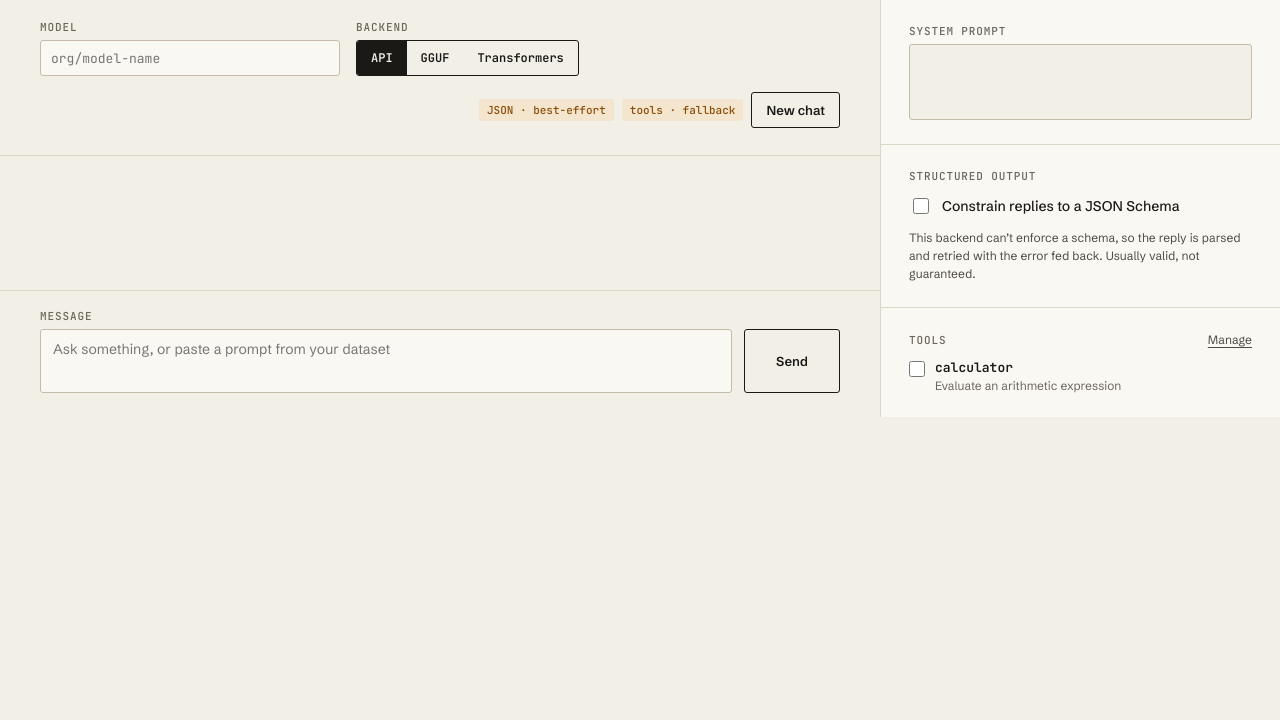
PlaygroundPage › re-picks a valid gguf model after switching gguf -> api -> gguf, instead of resending the stale api id
expect the text "calculator" is shown: met, box [935, 359, 1013, 376]
Click the button "GGUF": (435, 58) [407, 41, 463, 75]
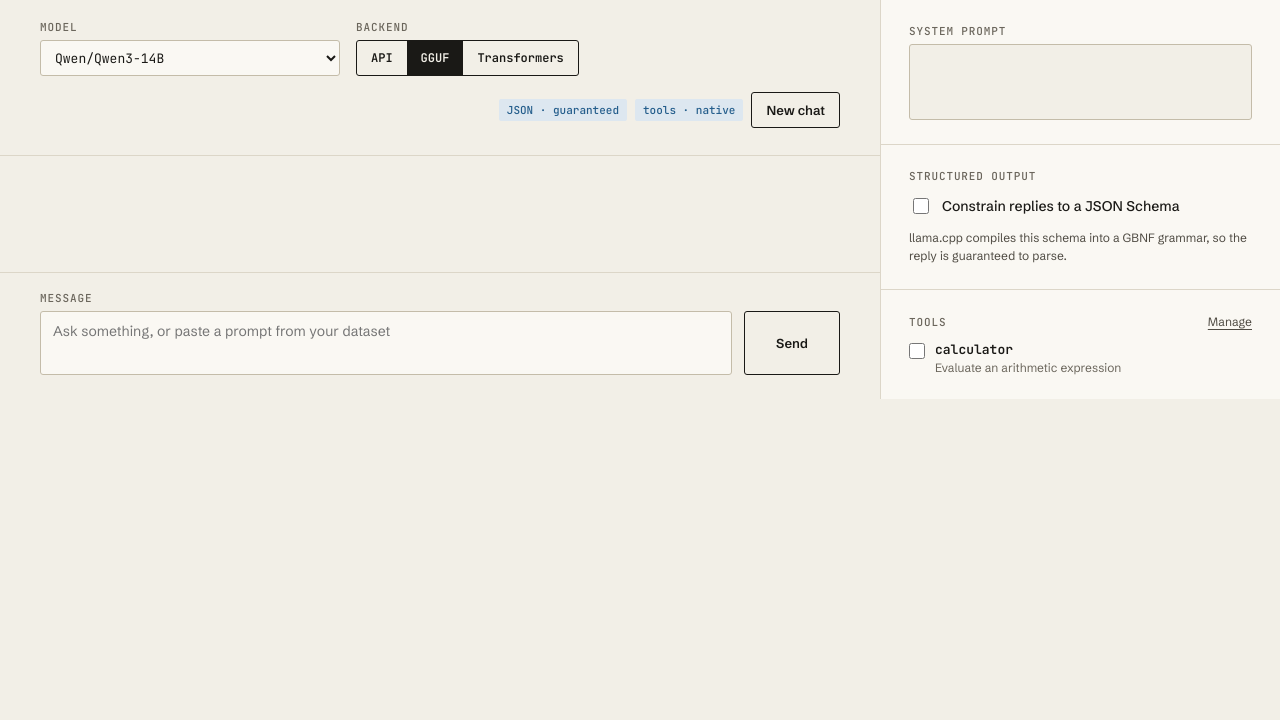
expect the dropdown showing "Qwen/Qwen3-14B" shows "Qwen/Qwen3-14B": met, box [40, 40, 340, 76]
Click the button "API": (382, 58) [357, 41, 407, 75]
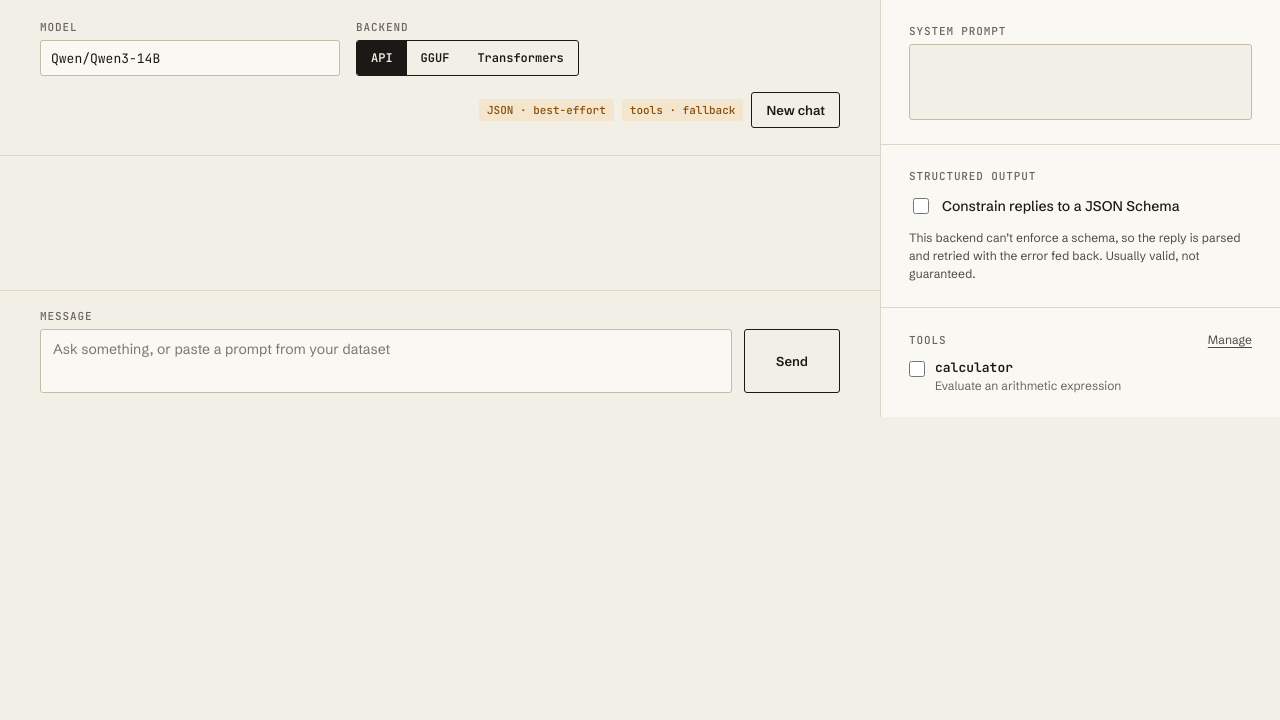
Replace the text in the field labelled "Model" with "org/some-api-model": (190, 58) [40, 40, 340, 76]
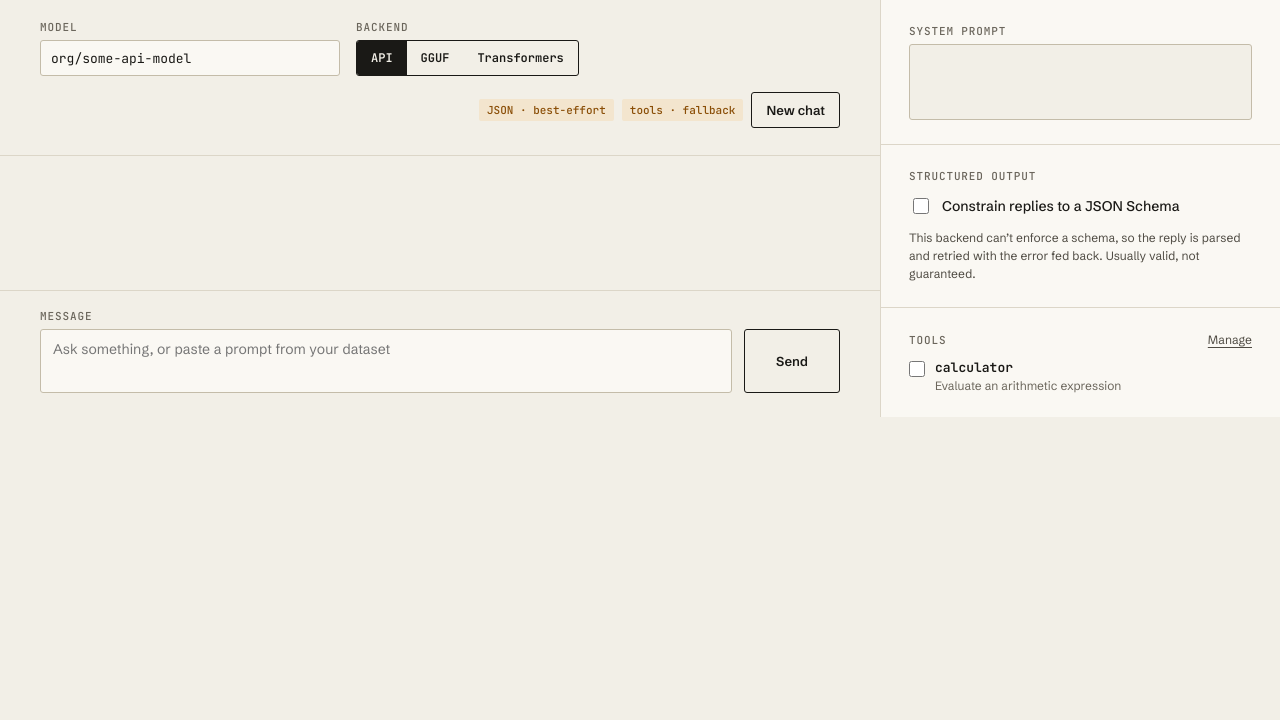
Click the button "GGUF": (435, 58) [407, 41, 463, 75]
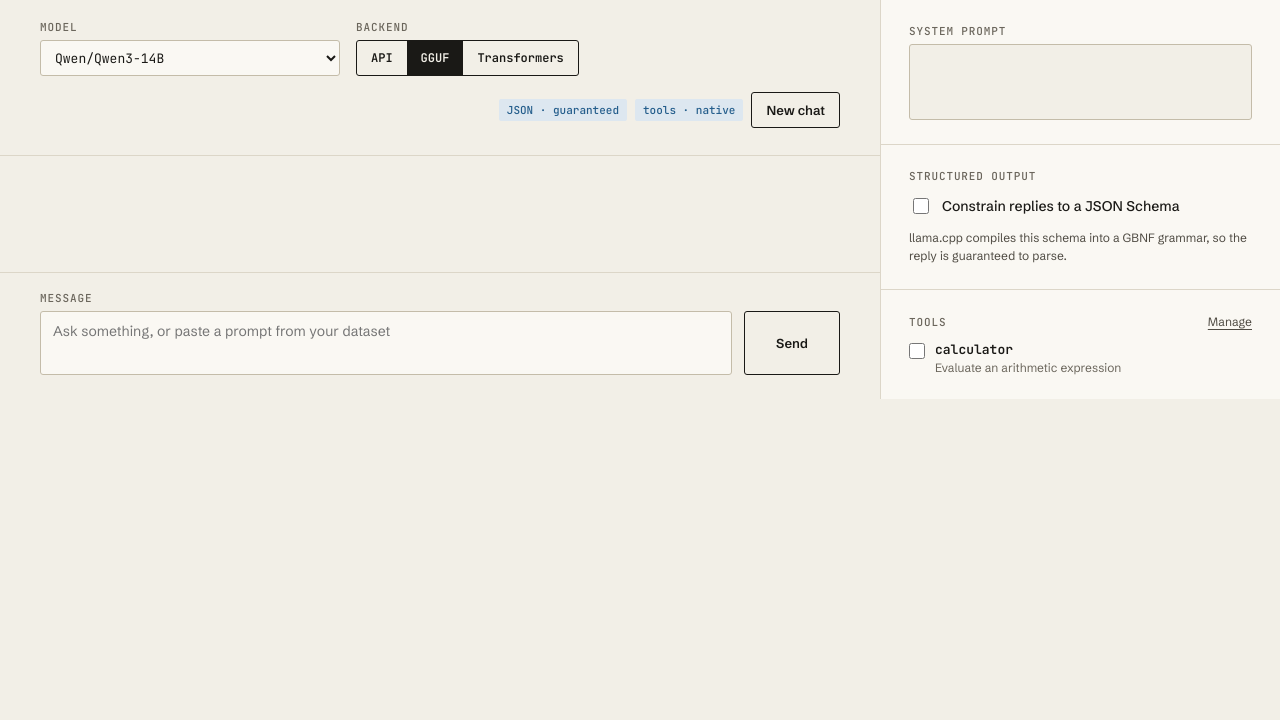
expect the dropdown labelled "Model" shows "Qwen/Qwen3-14B": met, box [40, 40, 340, 76]
In the text box labelled "Message": (386, 343) [40, 311, 732, 375], type "hi"
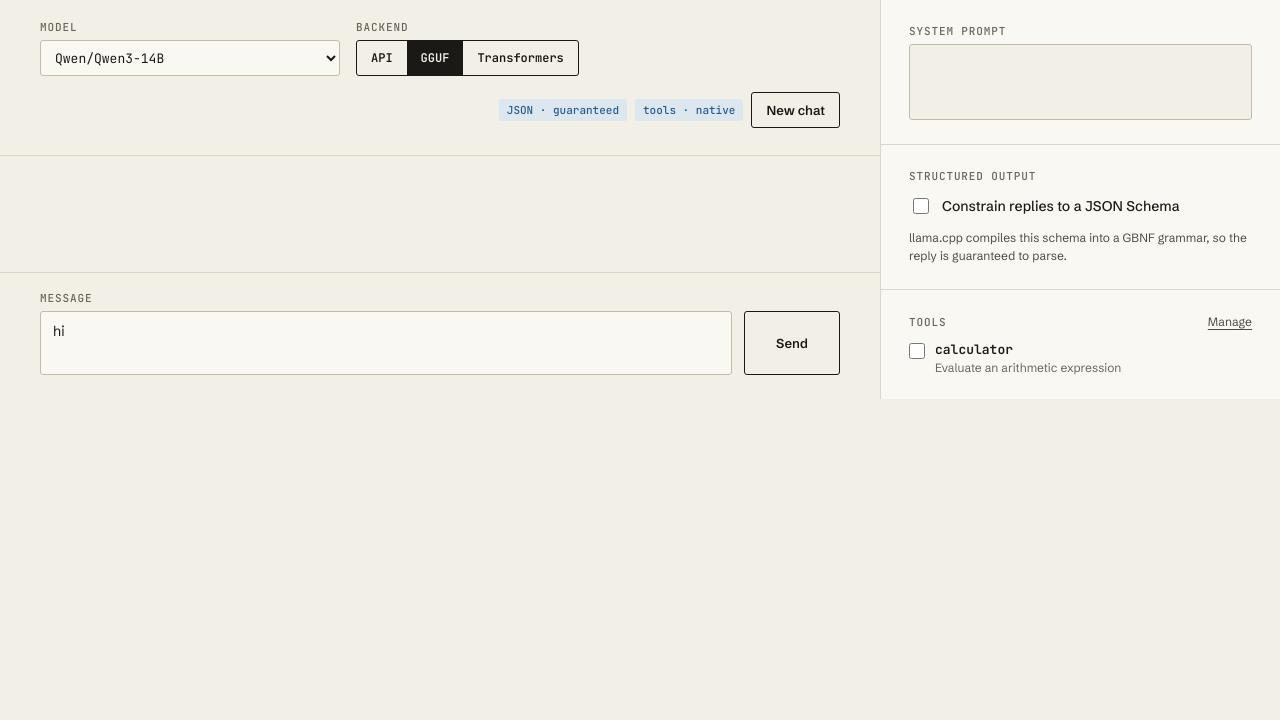
Click the button "Send": (792, 343) [744, 311, 840, 375]
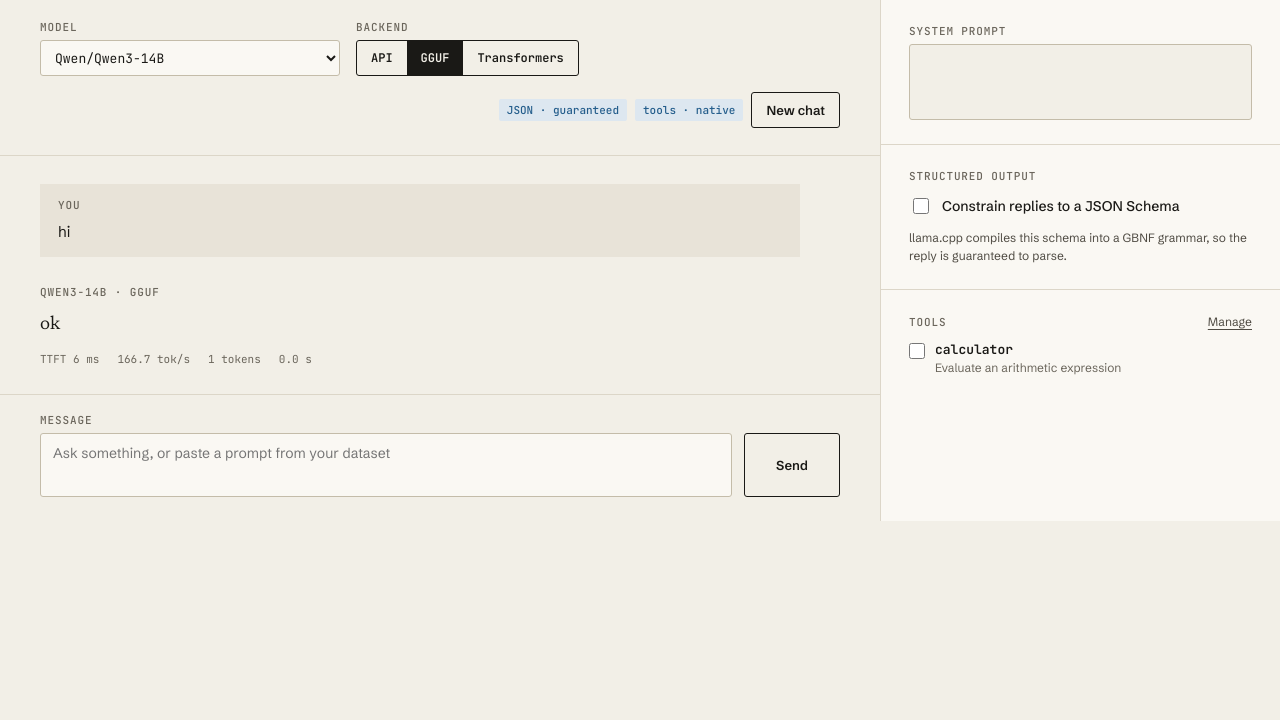
expect the text "ok" is shown: met, box [40, 315, 60, 334]
